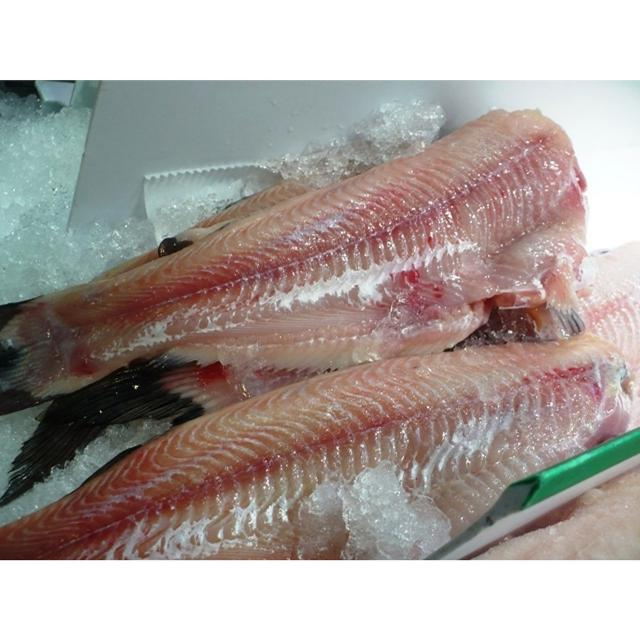Catfish: (0, 334, 640, 564)
